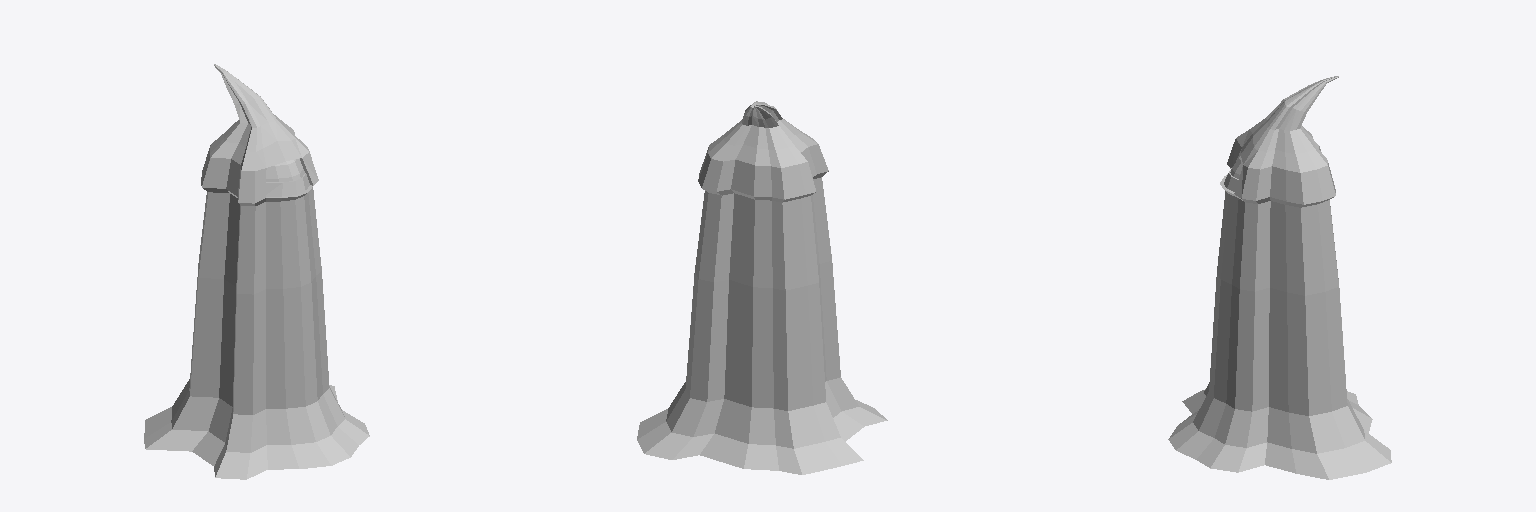
The model's file is marchang.obj.
3 views of the same model, side by side, from view 1: azimuth 30°, elevation 25°; view 2: azimuth 150°, elevation 25°; view 3: azimuth 270°, elevation 25° (orthographic).
Visible parts, largest first — view 1: Plane.072; view 2: Plane.072; view 3: Plane.072.
Part boxes in pixels (x1,y1,x2,y2): Plane.072: (144, 64, 369, 479); Plane.072: (637, 101, 887, 474); Plane.072: (1168, 76, 1391, 479).
Bounding box in the file's own units: 1.01 × 1.63 × 0.9496.